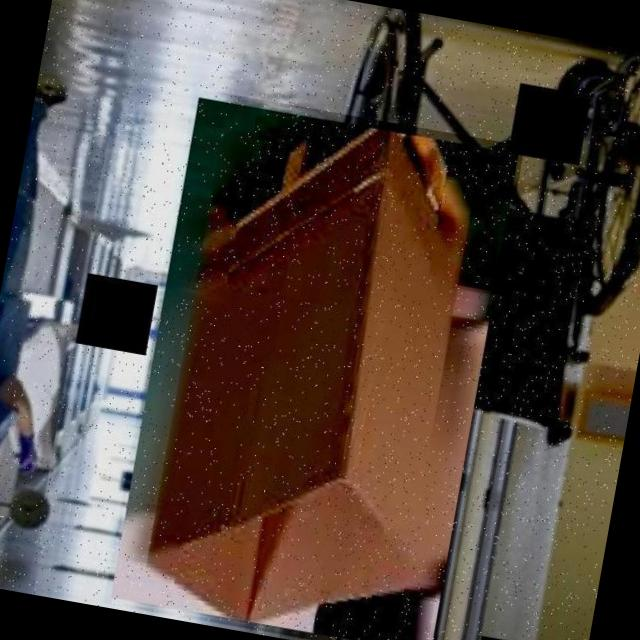box: (103, 87, 524, 640)
